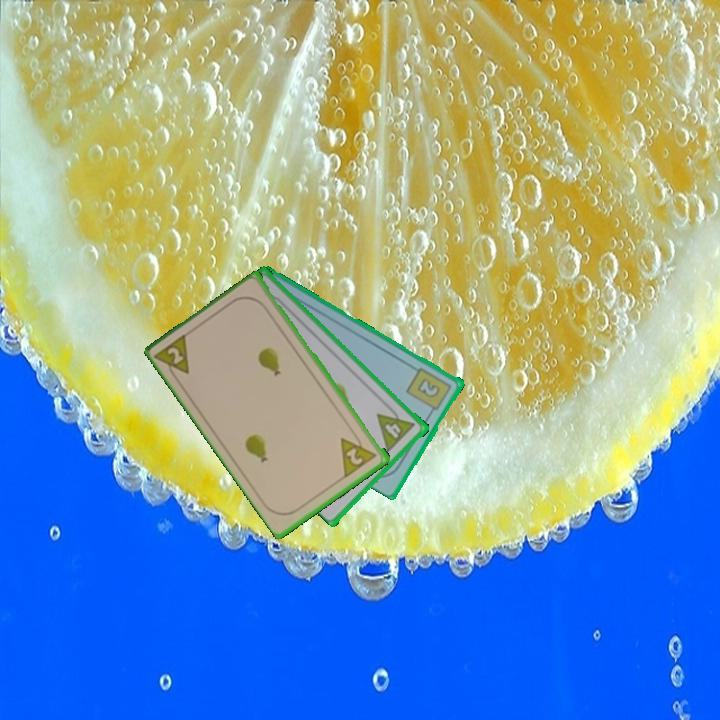2b: (403, 364, 455, 417)
2p: (152, 329, 193, 385), (343, 444, 366, 468)
4p: (374, 401, 418, 454)
